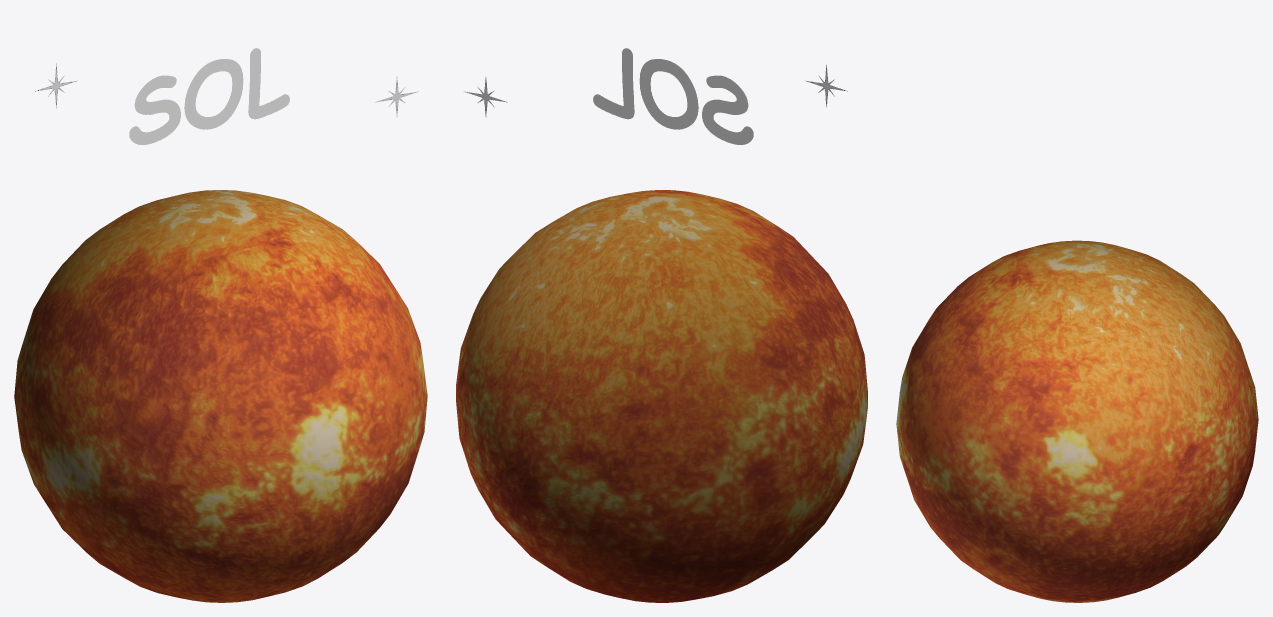
Rendered from sol.glb.
The picture shows the model from 3 angles, left to right: view 1: azimuth 30°, elevation 25°; view 2: azimuth 150°, elevation 25°; view 3: azimuth 270°, elevation 25°; orthographic projection. The views are drawn at different scales.
Parts seen in each view (by area): view 1: Terra.001, Letra; view 2: Terra.001, Letra; view 3: Terra.001.
Part boxes in pixels (x1,y1,x2,y2): Terra.001: (14, 190, 427, 602); Letra: (129, 48, 289, 144); Terra.001: (456, 190, 867, 602); Letra: (593, 48, 753, 144); Terra.001: (896, 240, 1258, 602).
Bounding box in the file's own units: 1.4 × 1.95 × 1.3.
2 materials, 2 textured.
